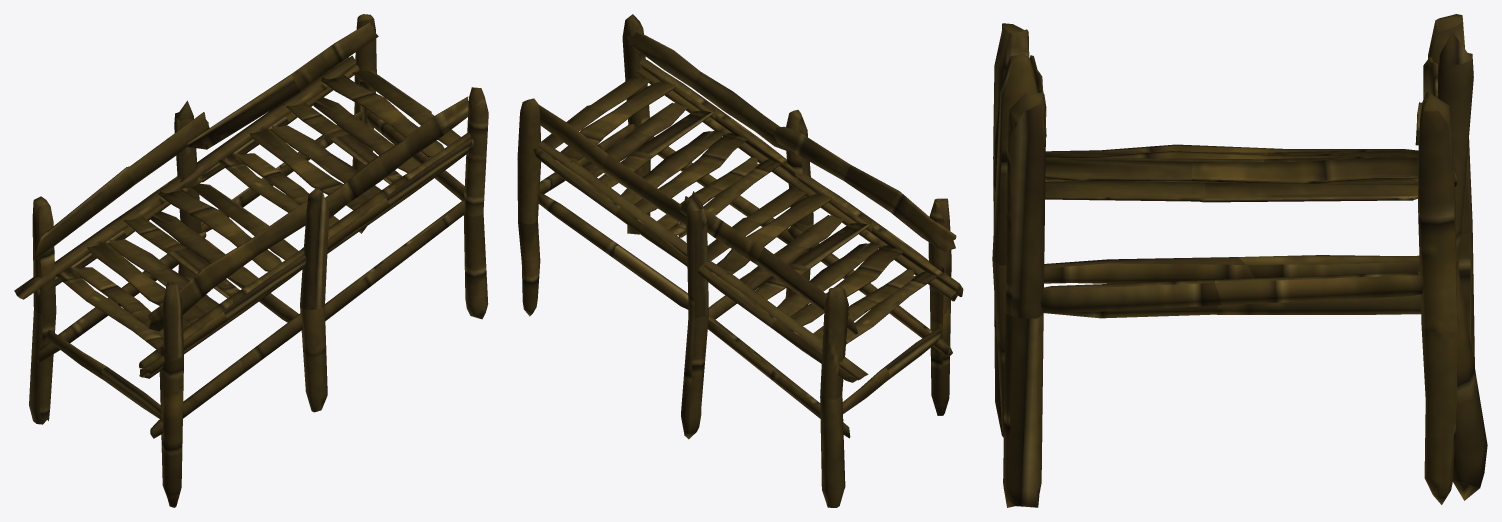
File: Footbridge_up.fbx
The picture shows the model from 3 angles, left to right: view 1: azimuth 30°, elevation 25°; view 2: azimuth 150°, elevation 25°; view 3: azimuth 270°, elevation 25°; orthographic projection. The views are drawn at different scales.
Parts seen in each view (by area): view 1: footbridge_up; view 2: footbridge_up; view 3: footbridge_up.
Boxes of the visible parts, left/top/right/bottom form: footbridge_up: left=14, top=14, right=488, bottom=507; footbridge_up: left=517, top=14, right=963, bottom=507; footbridge_up: left=992, top=14, right=1487, bottom=507.
Size of what is drawn, in the model's own units: 200 by 182 by 130.
